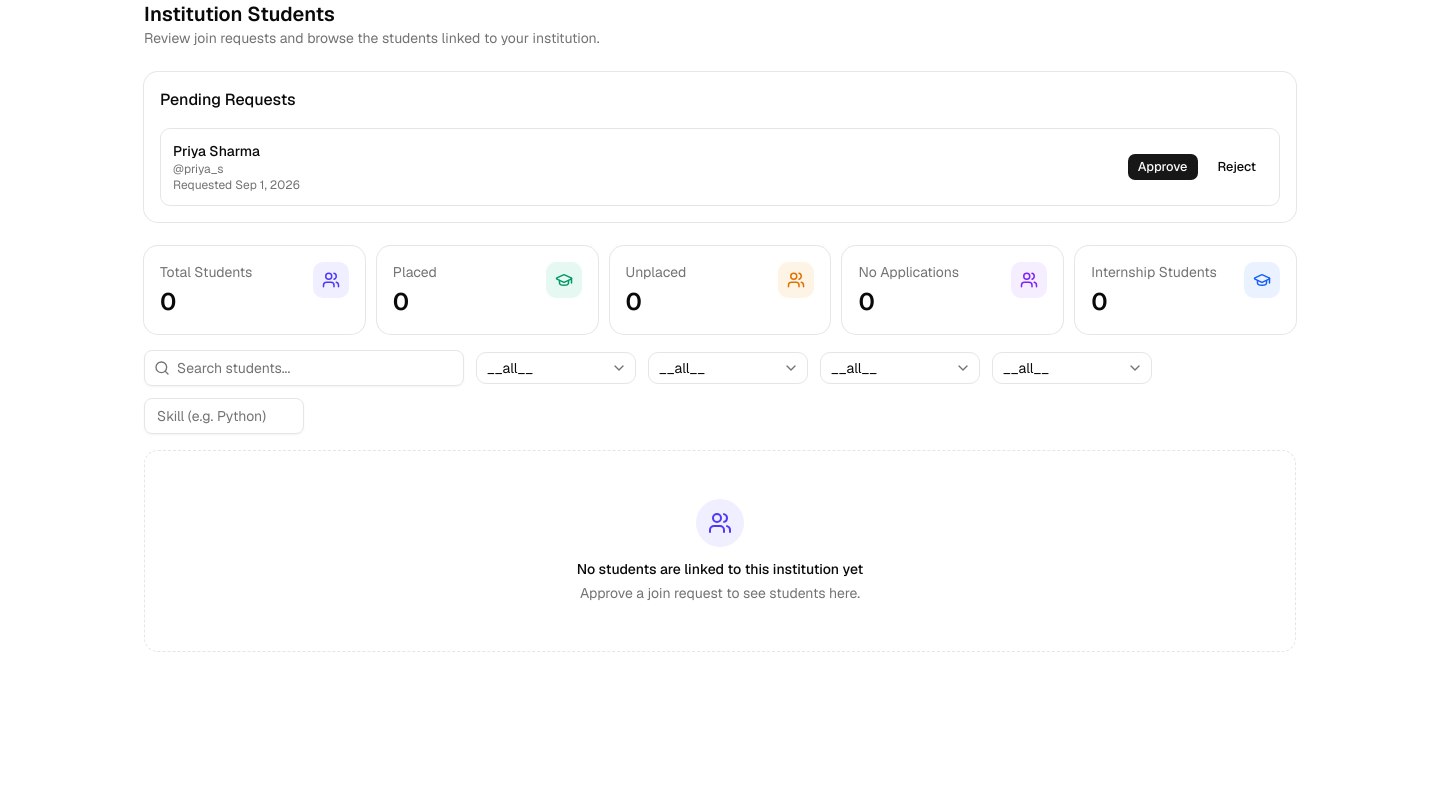
Test: InstitutionStudentsView › surfaces an approve error from the API
Expected: the text "Priya Sharma" is shown, [173,142,260,160]
Click the button "Approve" at (1163, 167), box [1127,153,1198,181]
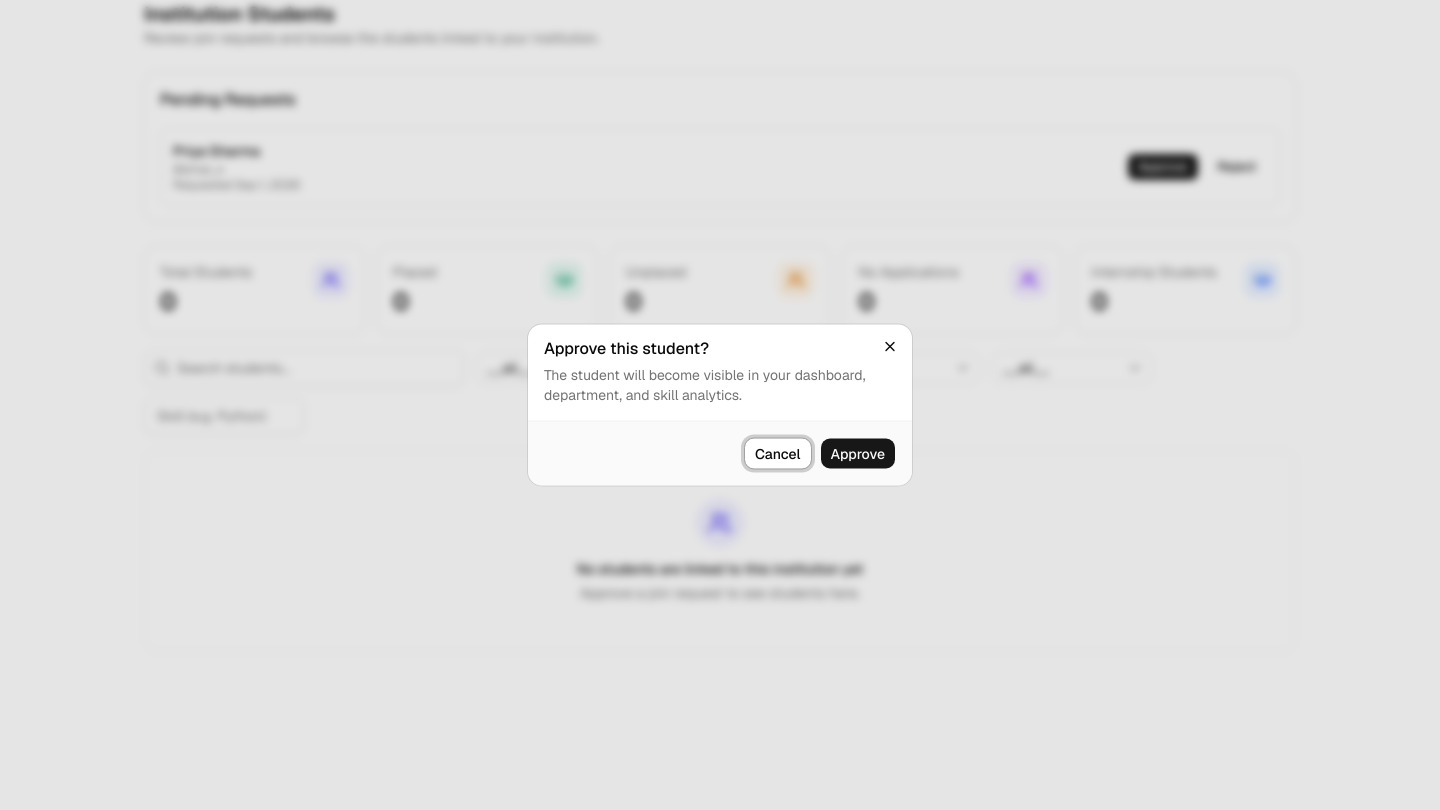
Click the button "Approve" at (858, 454), box [820,438,896,470]
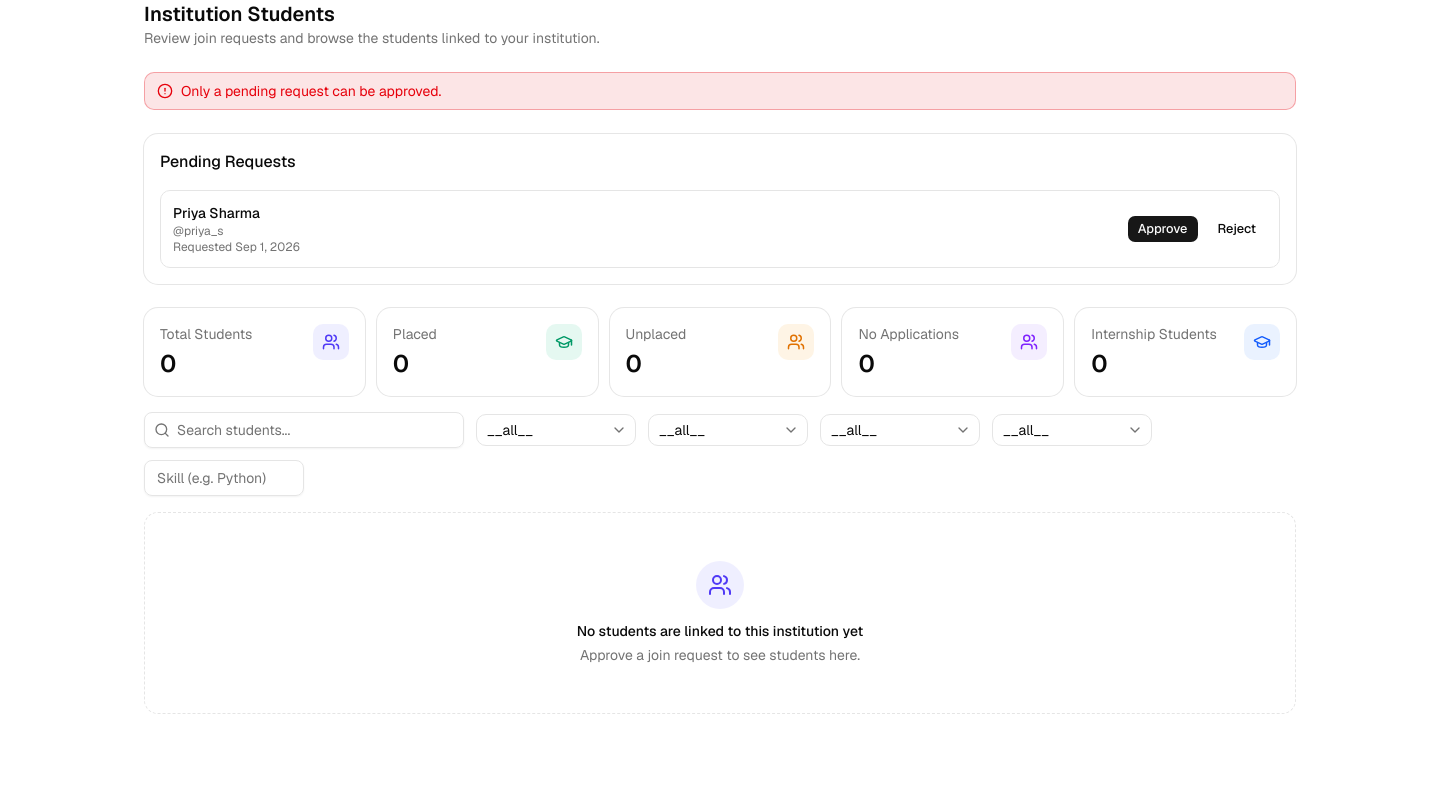
Now the text "Only a pending request can be approved." is shown, box [181,81,441,101]
